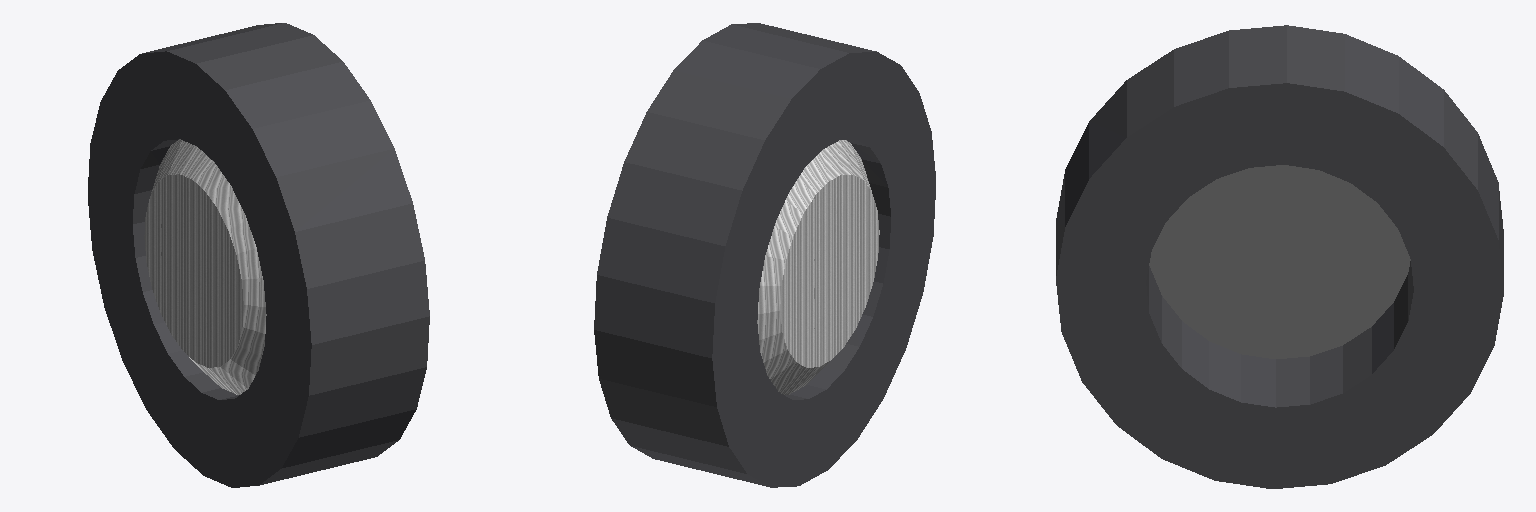
3 views of the same model, side by side, from view 1: azimuth 30°, elevation 25°; view 2: azimuth 150°, elevation 25°; view 3: azimuth 270°, elevation 25° (orthographic).
Visible parts, largest first — view 1: llanta26:polySurface645; view 2: llanta26:polySurface645; view 3: llanta26:polySurface645.
Part boxes in pixels (left/top/right/bottom): llanta26:polySurface645: left=88, top=23, right=429, bottom=487; llanta26:polySurface645: left=594, top=23, right=935, bottom=487; llanta26:polySurface645: left=1056, top=25, right=1503, bottom=488.
Size of the model in its own units: 0.0142 by 0.0447 by 0.0447.
Materials: 3 (2 with a texture image).